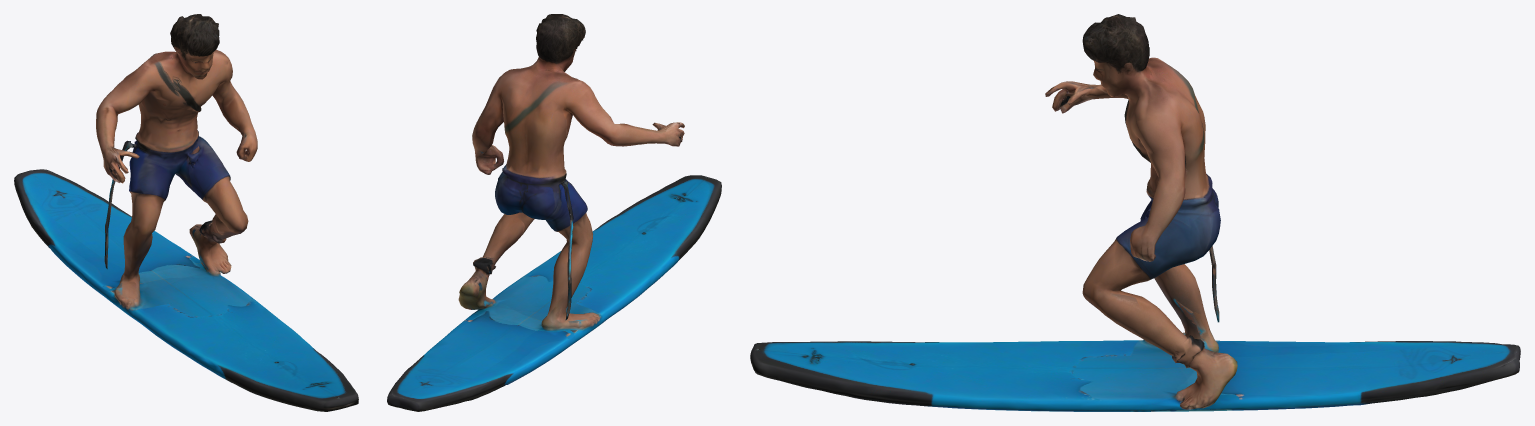
Rendered from kit_balikesir_windsurfer.glb.
The picture shows the model from 3 angles, left to right: view 1: azimuth 30°, elevation 25°; view 2: azimuth 150°, elevation 25°; view 3: azimuth 270°, elevation 25°; orthographic projection. The views are drawn at different scales.
Parts seen in each view (by area): view 1: Mesh_0; view 2: Mesh_0; view 3: Mesh_0.
Boxes of the visible parts, x1,y1,x2,y2 form: Mesh_0: (14, 14, 358, 411); Mesh_0: (387, 14, 721, 411); Mesh_0: (750, 14, 1520, 411).
Size of the model in its own units: 1.13 by 1.8 by 3.45.
1 material, 1 textured.
